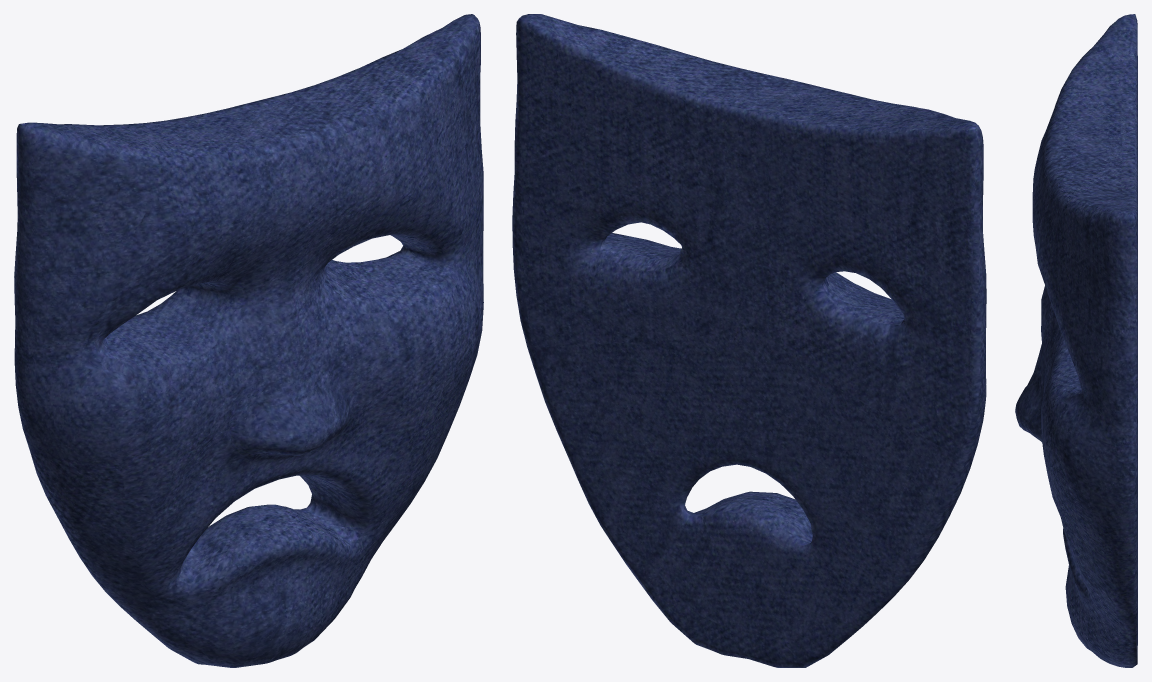
File: Tragedy1.fbx
3 renders of one model, left to right at view 1: azimuth 30°, elevation 25°; view 2: azimuth 150°, elevation 25°; view 3: azimuth 270°, elevation 25°, orthographic. The views are drawn at different scales.
Parts seen in each view (by area): view 1: Retopo_Tradegy.001; view 2: Retopo_Tradegy.001; view 3: Retopo_Tradegy.001.
Part boxes in pixels (x1,y1,x2,y2): Retopo_Tradegy.001: [14, 14, 483, 667]; Retopo_Tradegy.001: [512, 14, 986, 667]; Retopo_Tradegy.001: [1015, 14, 1137, 667].
Size of the model in its own units: 70 by 84.33 by 17.53.
1 material, 1 textured.
